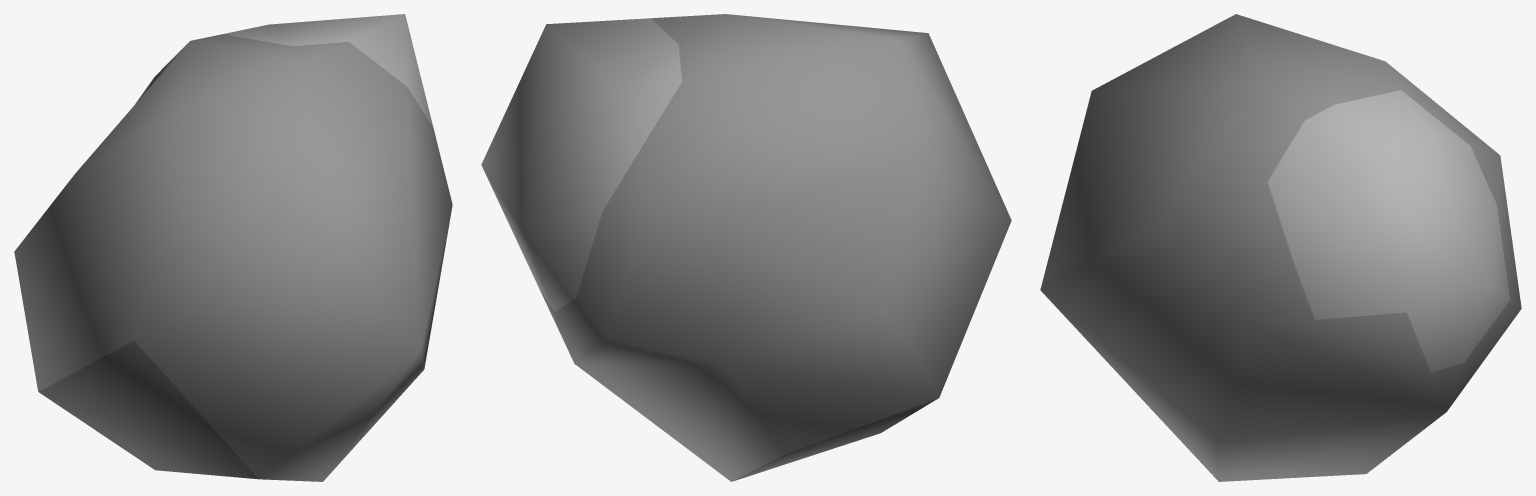
File: rock1.fbx
3 views of the same model, side by side, from view 1: azimuth 30°, elevation 25°; view 2: azimuth 150°, elevation 25°; view 3: azimuth 270°, elevation 25° (orthographic). The views are drawn at different scales.
Parts seen in each view (by area): view 1: rock1; view 2: rock1; view 3: rock1.
Boxes of the visible parts, <box> form: rock1: <box>14,14,452,481</box>; rock1: <box>481,14,1011,481</box>; rock1: <box>1040,14,1521,481</box>.
Size of the model in its own units: 44.86 by 42.73 by 45.09.
